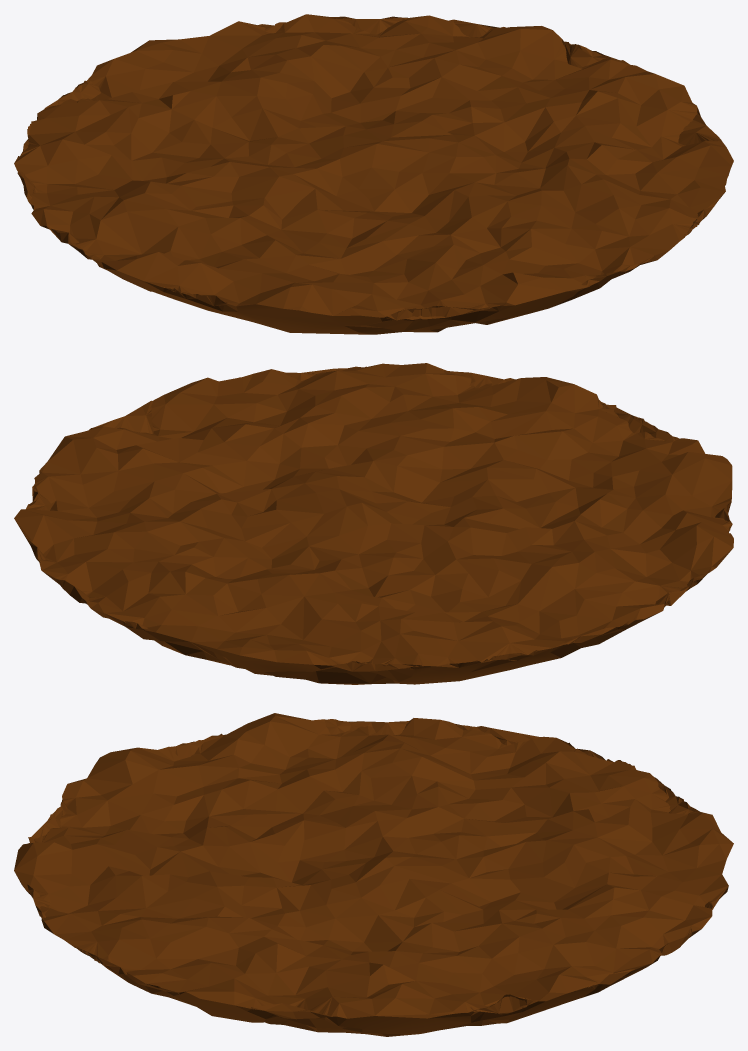
The model's file is Dirt.fbx.
3 renders of one model, top to bottom at view 1: azimuth 30°, elevation 25°; view 2: azimuth 150°, elevation 25°; view 3: azimuth 270°, elevation 25°, orthographic.
Parts seen in each view (by area): view 1: Dirt; view 2: Dirt; view 3: Dirt.
Part boxes in pixels (box(x1,y1,x2,y2)): Dirt: box(14, 14, 733, 334); Dirt: box(14, 363, 733, 684); Dirt: box(14, 713, 733, 1036).
Size of the model in its own units: 156 by 24 by 158.
